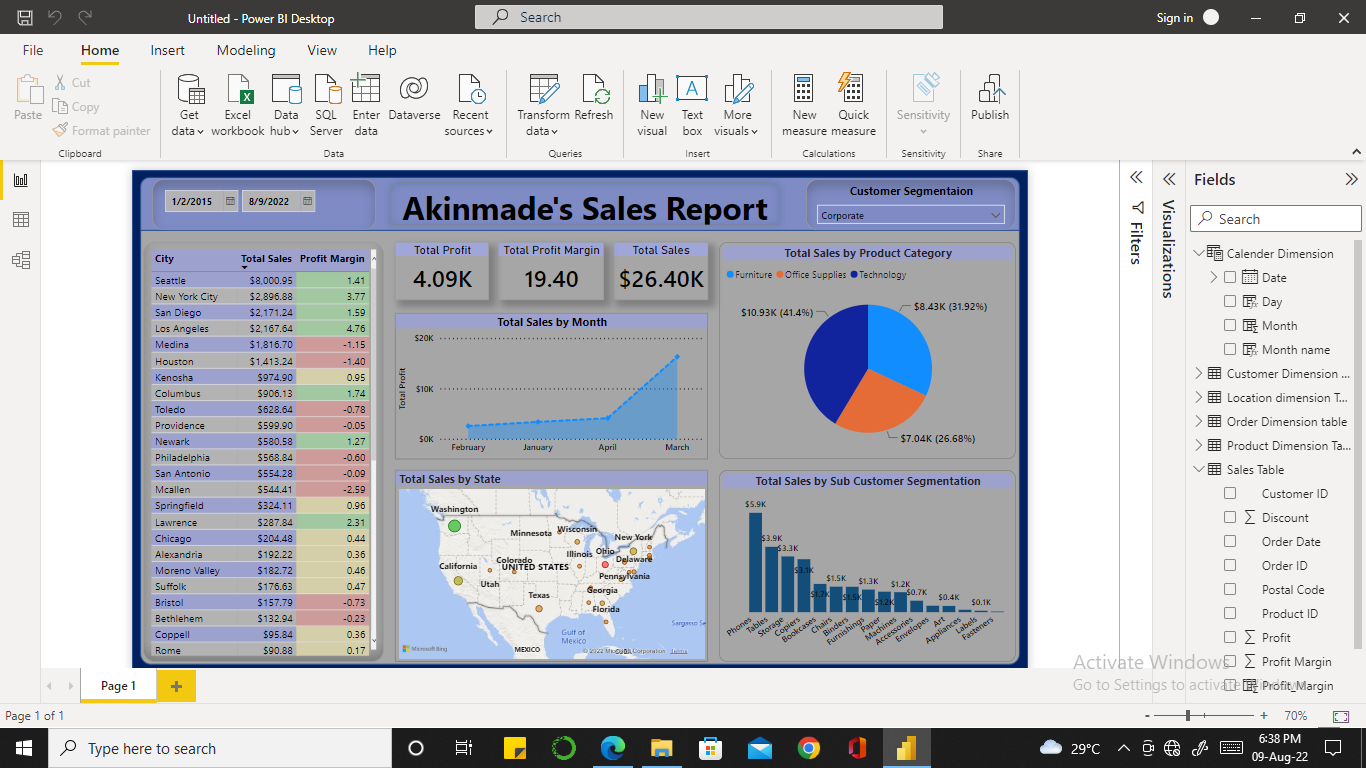

The page's visual inventory and layout, read from the dashboard file:
{"tool":"powerbi","page":{"name":"Page 1","canvas":[1280,720],"ordinal":0},"visuals":[{"type":"card","title":"Total Sales","fields":{"Values":["Sales Table.Sales"]},"box":[687.1,102.9,135.7,82.9],"z":0},{"type":"card","title":"Total Profit","fields":{"Values":["Sales Table.Profit"]},"box":[375.7,102.9,134.3,82.9],"z":1000},{"type":"card","title":"Total Profit Margin","fields":{"Values":["Sales Table.Profit Margin"]},"box":[522.9,102.9,151.4,82.9],"z":2000},{"type":"clusteredColumnChart","title":"Total Sales by Sub Customer Segmentation","fields":{"Category":["Product Dimension Table.Sub-Category"],"Y":["Sales Table.Sales"]},"box":[838.6,428.6,424.3,274.3],"z":3000},{"type":"pieChart","title":"Total Sales by Product Category","fields":{"Series":["Product Dimension Table.Category"],"Y":["Sales Table.Sales"]},"box":[838.6,102.9,424.3,310],"z":4000},{"type":"slicer","title":"Date","fields":{"Values":["Calender Dimension.Date"]},"box":[28.6,12.9,320,72.9],"z":5000},{"type":"areaChart","title":"Total Sales by Month","fields":{"Category":["Calender Dimension.Month name"],"Y":["Sales Table.Sales"]},"box":[375.7,204.3,447.1,208.6],"z":6000},{"type":"tableEx","fields":{"Values":["Location dimension Table.City","Sales Table.Sales","Sales Table.Profit Margin"]},"box":[15.7,102.9,344.3,600],"z":7000},{"type":"map","title":"Total Sales by State","fields":{"Category":["Location dimension Table.State","Location dimension Table.Country"],"Size":["Sales Table.Sales"]},"box":[375.7,428.6,447.1,274.3],"z":8000},{"type":"shape","box":[360,10,574.3,75.7],"z":9000},{"type":"slicer","title":"Customer Segmentaion","fields":{"Values":["Customer Dimension Table.Segment"]},"box":[962.9,12.9,300,72.9],"z":10000}]}

Visuals, with their boxes on the page's 1280x720 design canvas (x1, y1, x2, y2). These are canvas units, not pixel positions in the 1366x768 screenshot, which may show the page scaled, cropped or inside an application window:
"Total Sales" card: <box>687,103,823,186</box>
"Total Profit" card: <box>376,103,510,186</box>
"Total Profit Margin" card: <box>523,103,674,186</box>
"Total Sales by Sub Customer Segmentation" clusteredColumnChart: <box>839,429,1263,703</box>
"Total Sales by Product Category" pieChart: <box>839,103,1263,413</box>
"Date" slicer: <box>29,13,349,86</box>
"Total Sales by Month" areaChart: <box>376,204,823,413</box>
tableEx - Location dimension Table.City x Sales Table.Sales: <box>16,103,360,703</box>
"Total Sales by State" map: <box>376,429,823,703</box>
shape: <box>360,10,934,86</box>
"Customer Segmentaion" slicer: <box>963,13,1263,86</box>
